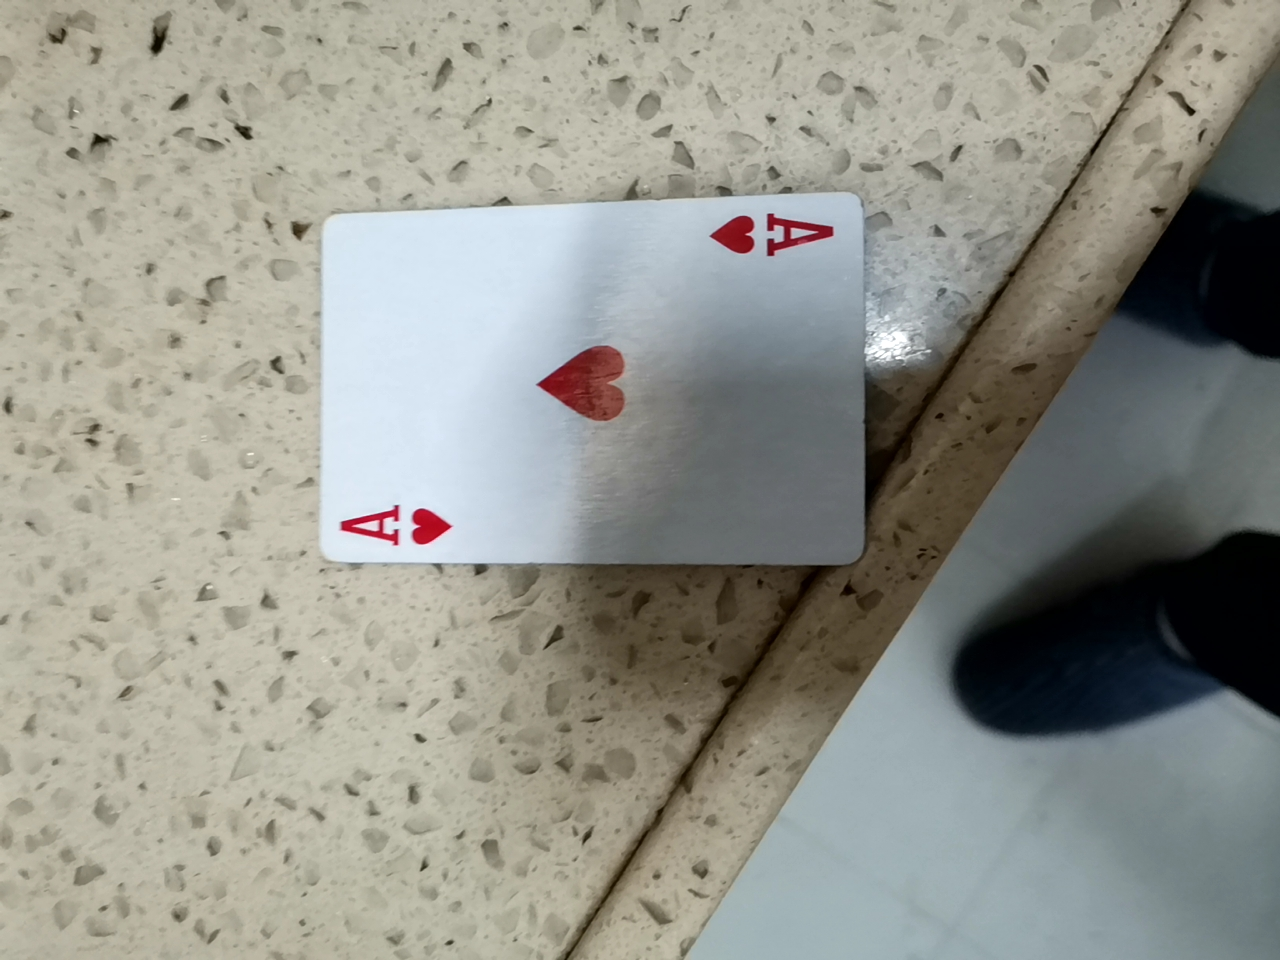hx a: (312, 181, 891, 575)
